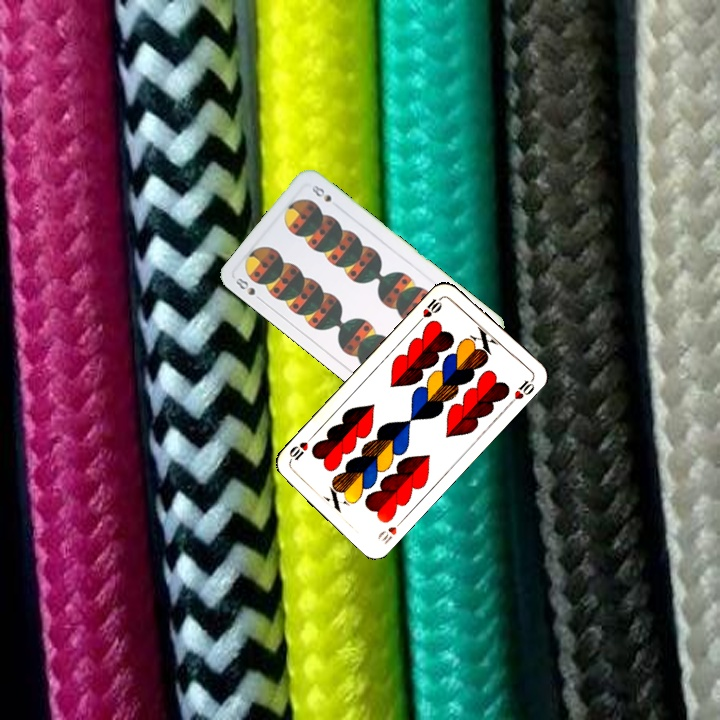H10: (373, 514, 407, 547), (414, 292, 446, 325)
S8: (231, 273, 266, 305)
